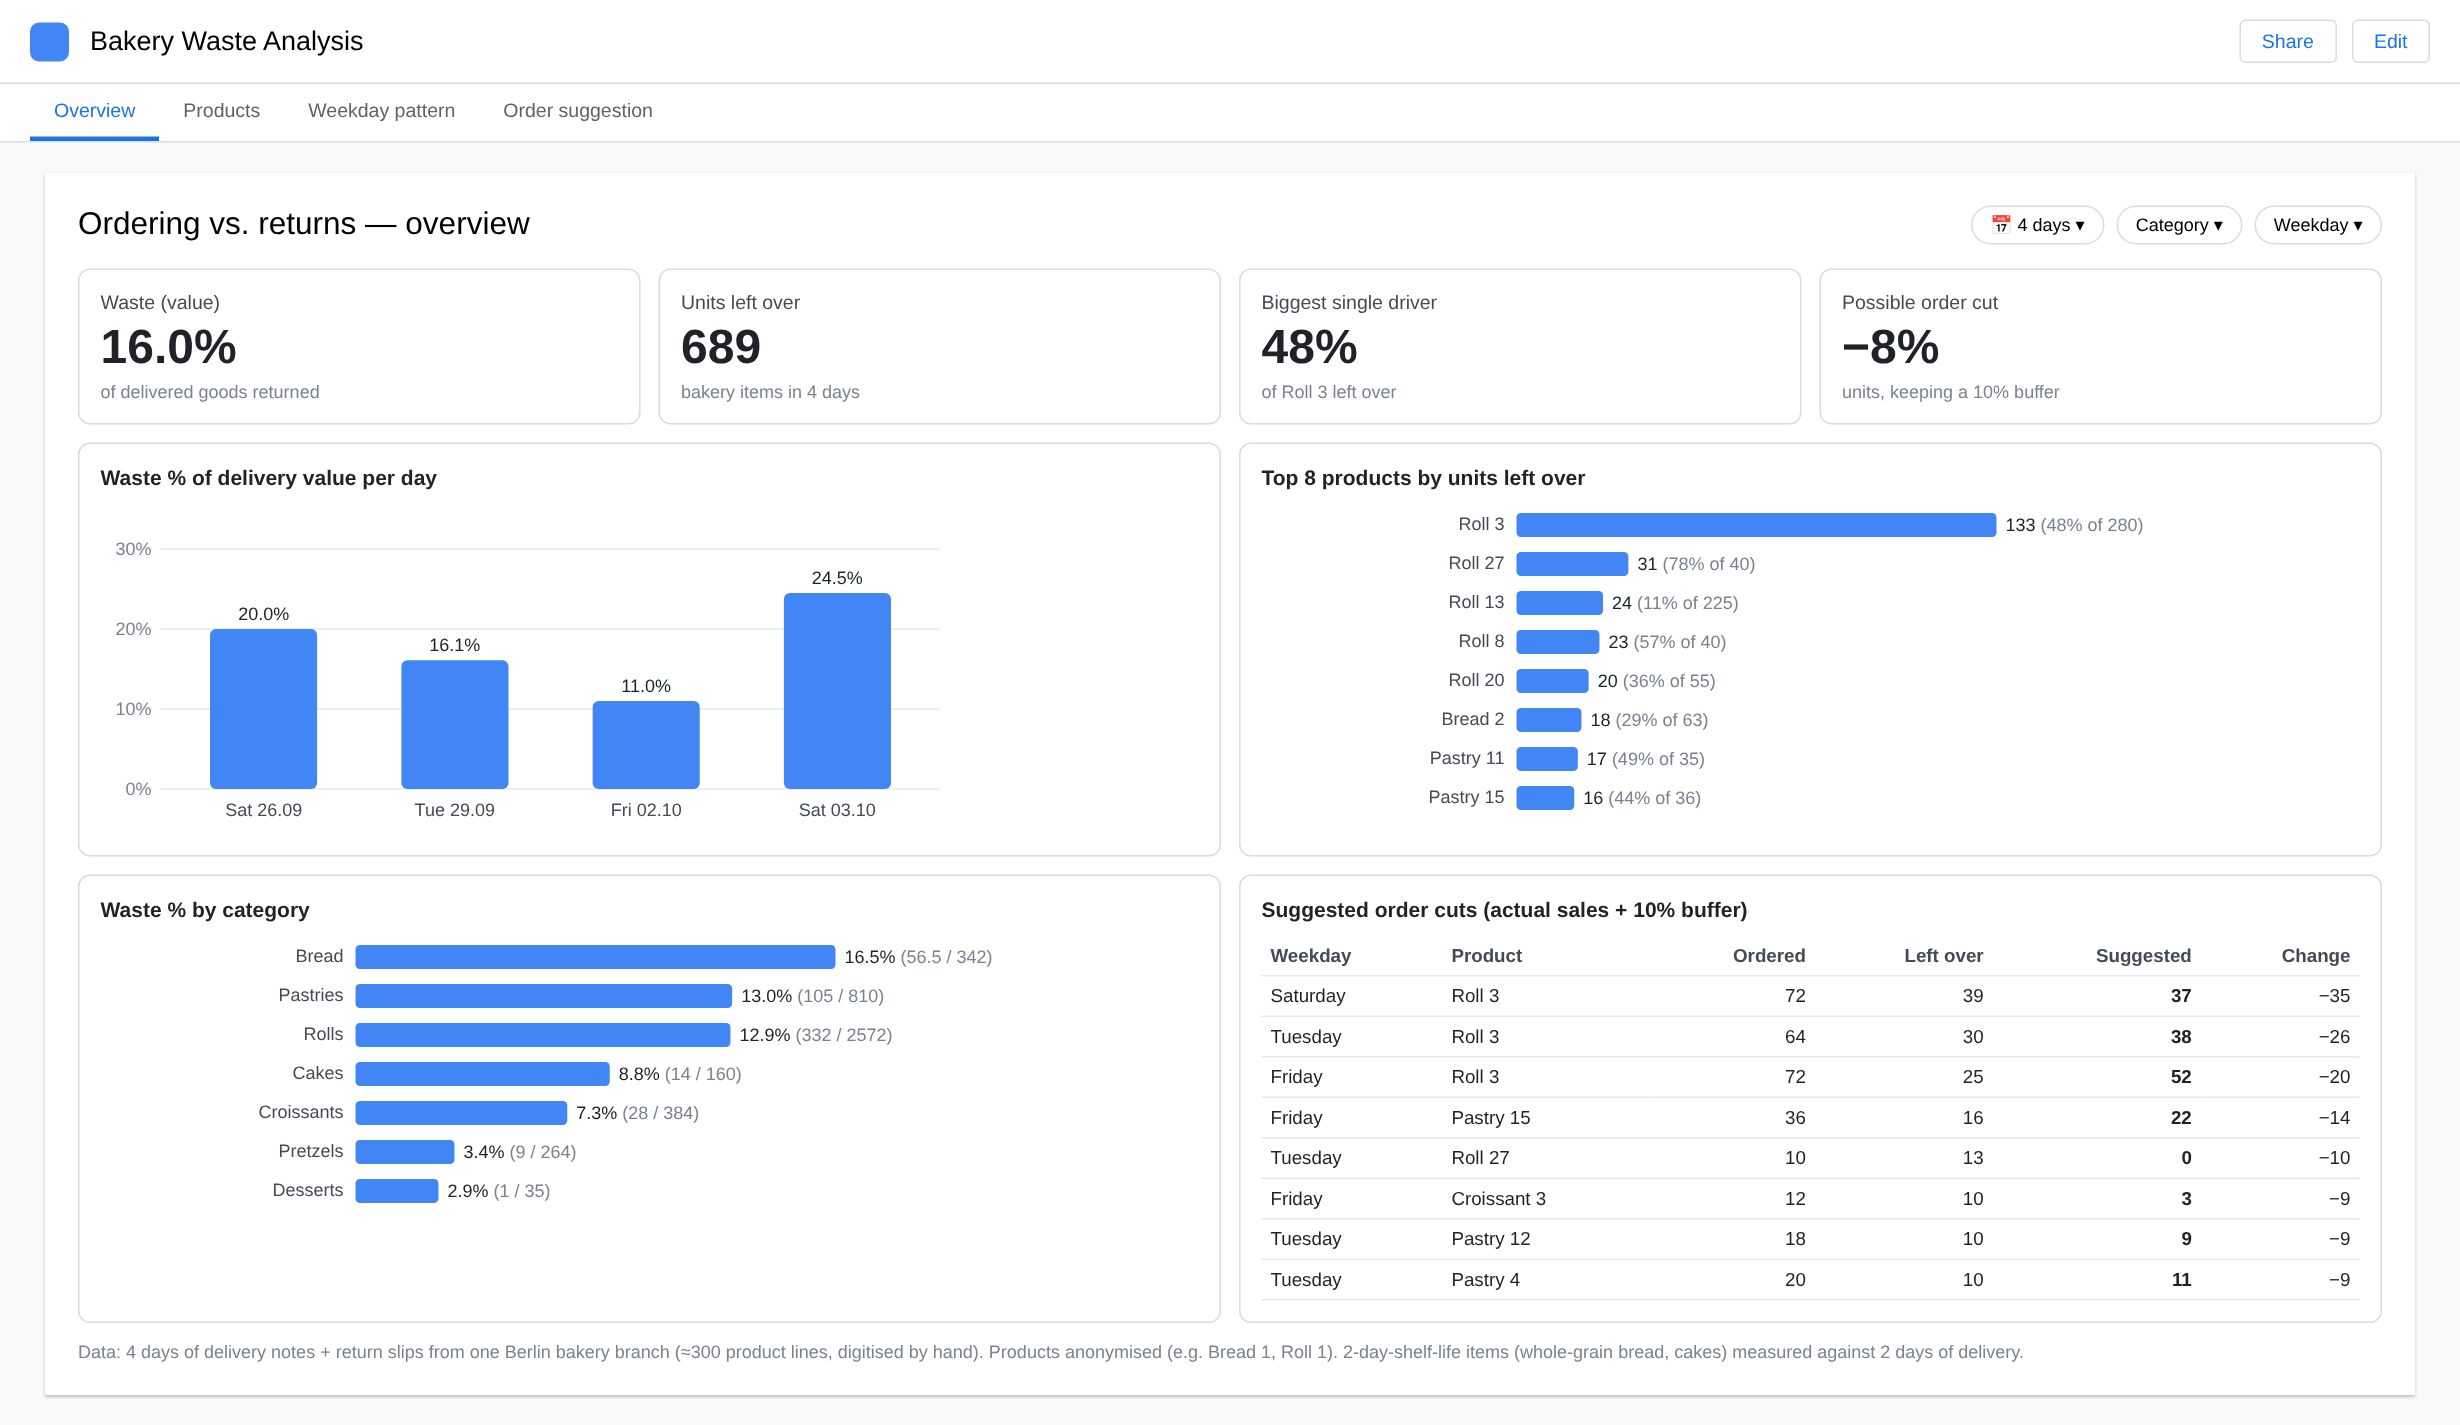

The dashboard page shown, as its layout file describes it:
{"tool":"powerbi","page":{"name":"Page 1","canvas":[1920,1080],"ordinal":0},"visuals":[{"type":"cardVisual","fields":{"Data":["bakery_orders_vs_returns.Waste % (value)"]},"box":[10.9,0,456,170.1],"z":0},{"type":"cardVisual","fields":{"Data":["bakery_orders_vs_returns.Units Leftover"]},"box":[503.1,18.1,456,170],"z":1},{"type":"cardVisual","fields":{"Data":["bakery_orders_vs_returns.Order Cut %"]},"box":[959.1,18.1,456,170],"z":2},{"type":"cardVisual","fields":{"Data":["bakery_orders_vs_returns.Leftovers Avoided %"]},"box":[1429.6,18.1,456,170],"z":3},{"type":"clusteredColumnChart","fields":{"Category":["bakery_daily_totals.Day"],"Y":["bakery_orders_vs_returns.Waste % (value)"]},"box":[10.9,188.2,935.6,430.7],"z":4},{"type":"clusteredBarChart","fields":{"Category":["bakery_products.product_name"],"Y":["bakery_orders_vs_returns.Units Leftover"]},"box":[960.9,188.2,936,431],"z":5},{"type":"clusteredBarChart","fields":{"Category":["bakery_products.category"],"Y":["bakery_orders_vs_returns.Waste % (units)"]},"box":[11,629,936,431],"z":6},{"type":"tableEx","fields":{"Values":["bakery_order_suggestions.weekday","bakery_orders_vs_returns.Ordered Now","bakery_orders_vs_returns.Order Instead","bakery_orders_vs_returns.Units Less","bakery_orders_vs_returns.Leftover Today","bakery_orders_vs_returns.Leftover Projected"]},"box":[961,629,936,431],"z":7}]}

Visuals, with their boxes in screenshot pixels (x1, y1, x2, y2), scaled from the page's 1920x1080 canvas onto the 2460x1425 screenshot:
cardVisual - bakery_orders_vs_returns.Waste % (value): [x1=14, y1=0, x2=598, y2=224]
cardVisual - bakery_orders_vs_returns.Units Leftover: [x1=645, y1=24, x2=1229, y2=248]
cardVisual - bakery_orders_vs_returns.Order Cut %: [x1=1229, y1=24, x2=1813, y2=248]
cardVisual - bakery_orders_vs_returns.Leftovers Avoided %: [x1=1832, y1=24, x2=2416, y2=248]
clusteredColumnChart - bakery_daily_totals.Day x bakery_orders_vs_returns.Waste % (value): [x1=14, y1=248, x2=1213, y2=817]
clusteredBarChart - bakery_products.product_name x bakery_orders_vs_returns.Units Leftover: [x1=1231, y1=248, x2=2430, y2=817]
clusteredBarChart - bakery_products.category x bakery_orders_vs_returns.Waste % (units): [x1=14, y1=830, x2=1213, y2=1399]
tableEx - bakery_order_suggestions.weekday x bakery_orders_vs_returns.Ordered Now: [x1=1231, y1=830, x2=2431, y2=1399]
